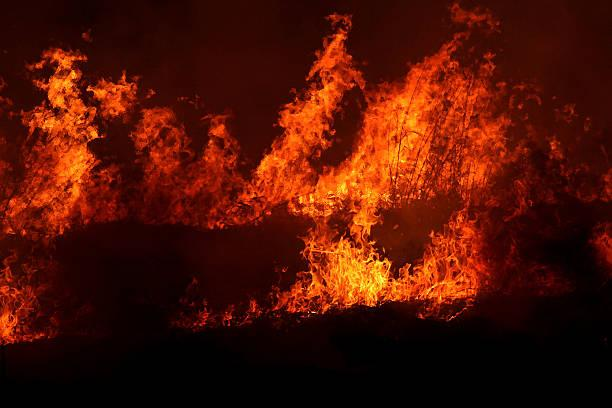Fire: (360, 123, 414, 206), (321, 248, 391, 301), (44, 144, 114, 180)
